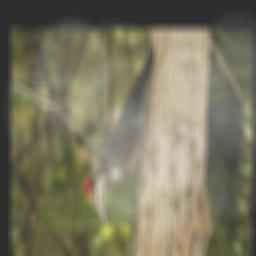Woodpecker: (83, 40, 162, 231)
